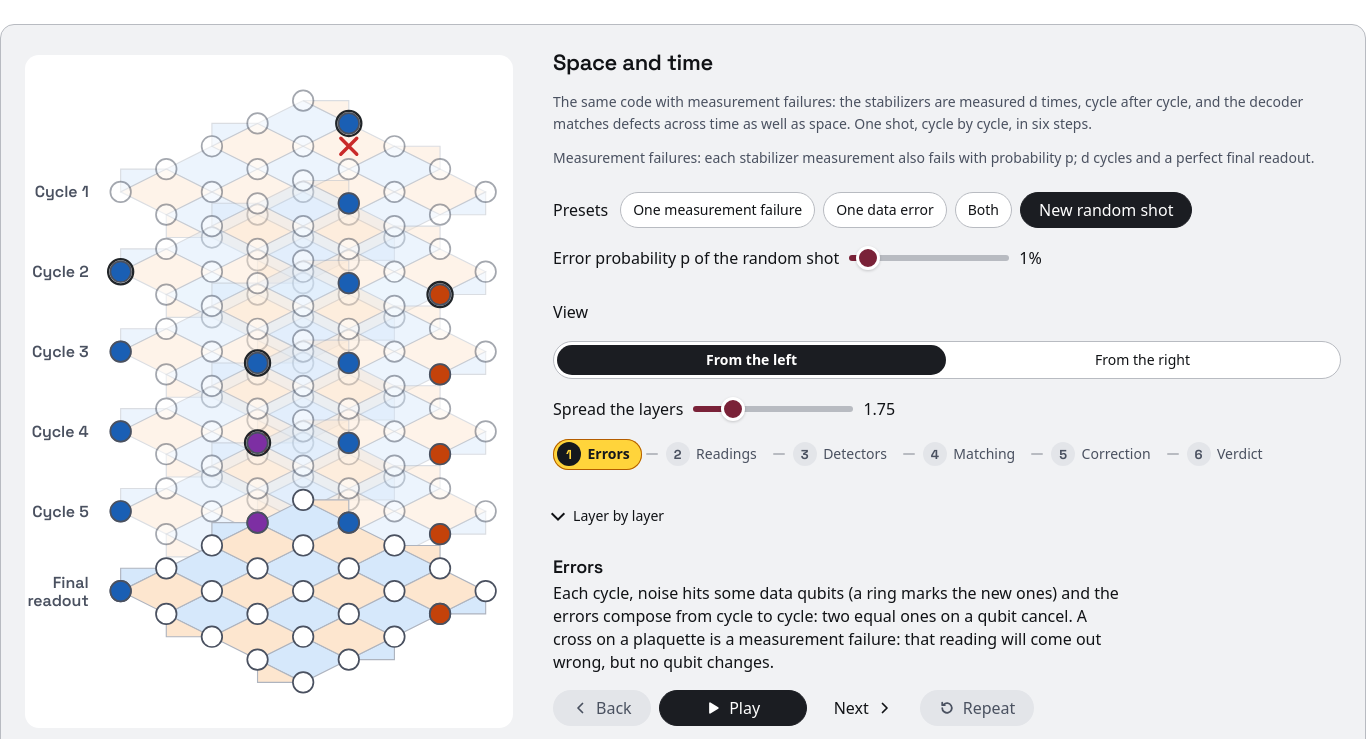
Test: SpacetimePanel (T-G7) › preset "data": readings lit in every layer from the central one, detectors in one layer, correction on one qubit
The width and height of the screenshot is (1366, 739).
Click the button "One data error". click: (885, 210)
box: x1=823 y1=192 x2=947 y2=228
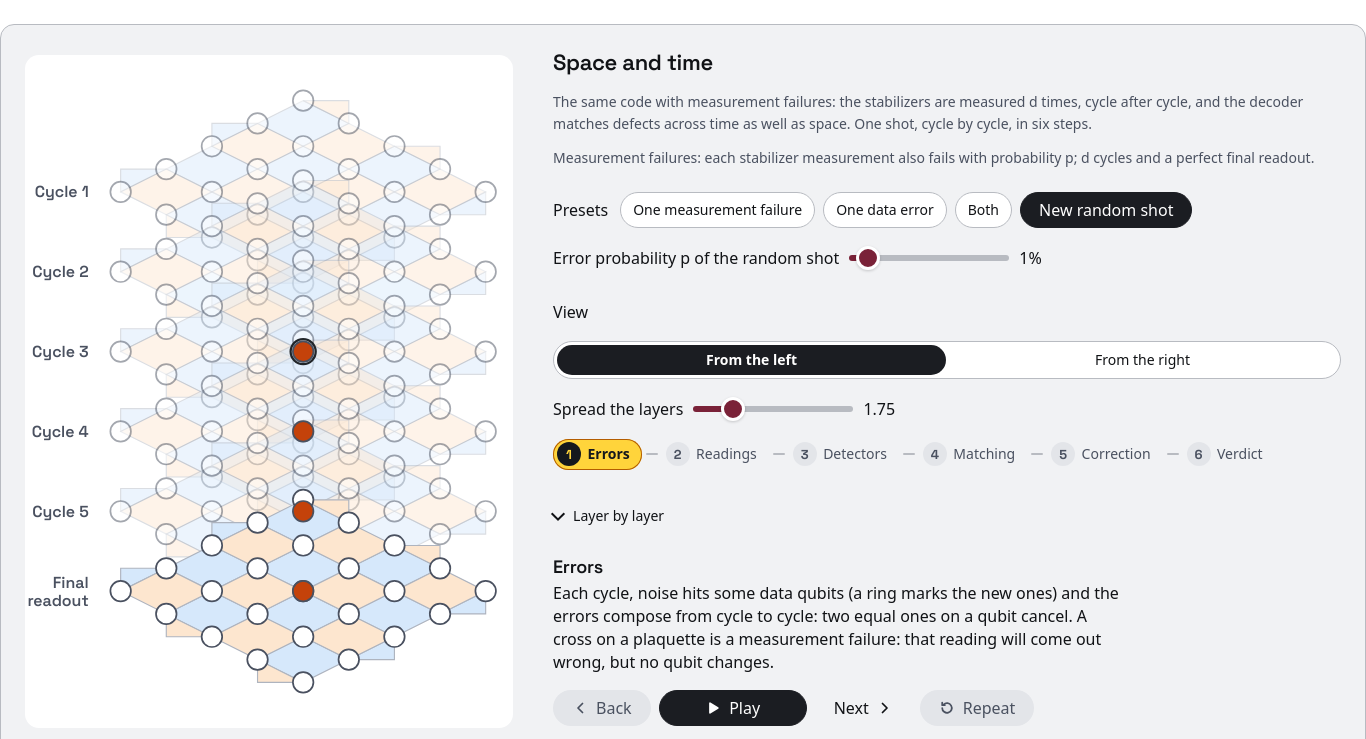
Click the button "Next". click: (863, 708)
box: x1=815 y1=690 x2=912 y2=726
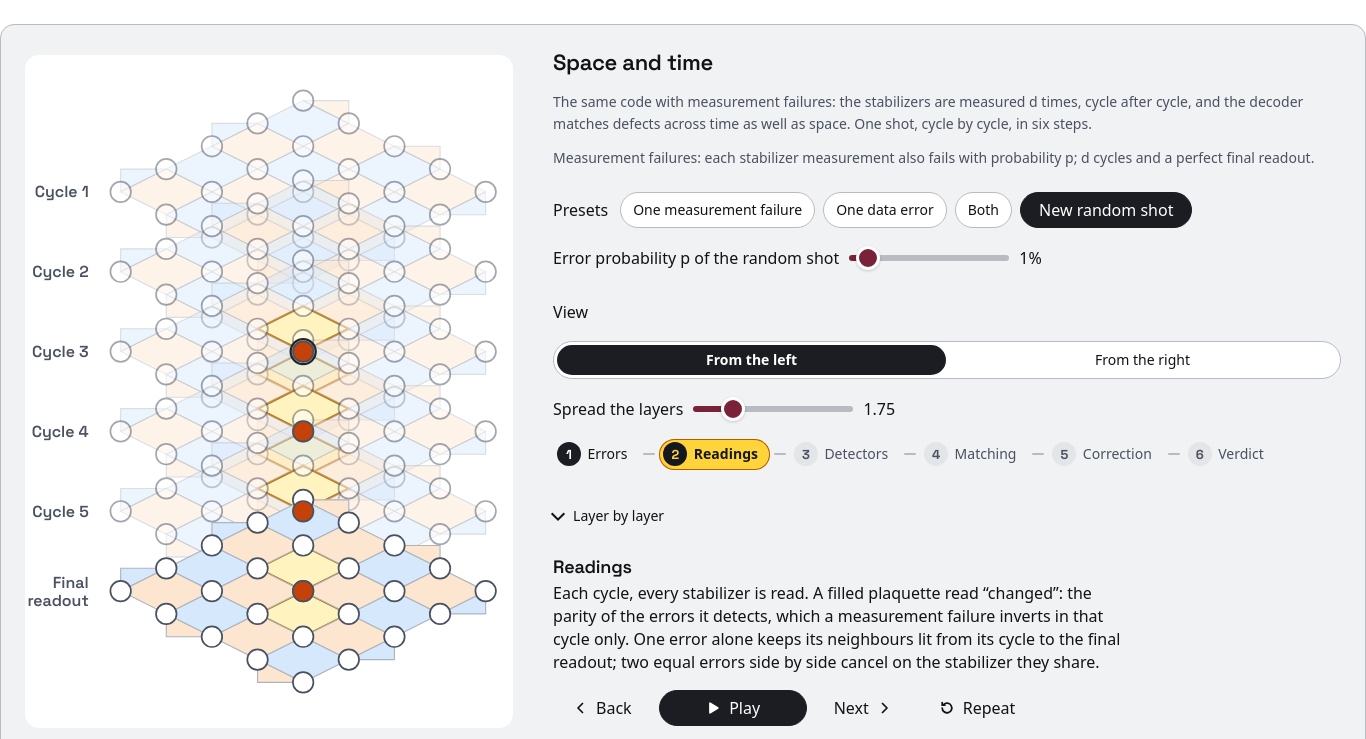
Click the button "Next". click: (863, 708)
box: x1=815 y1=690 x2=912 y2=726
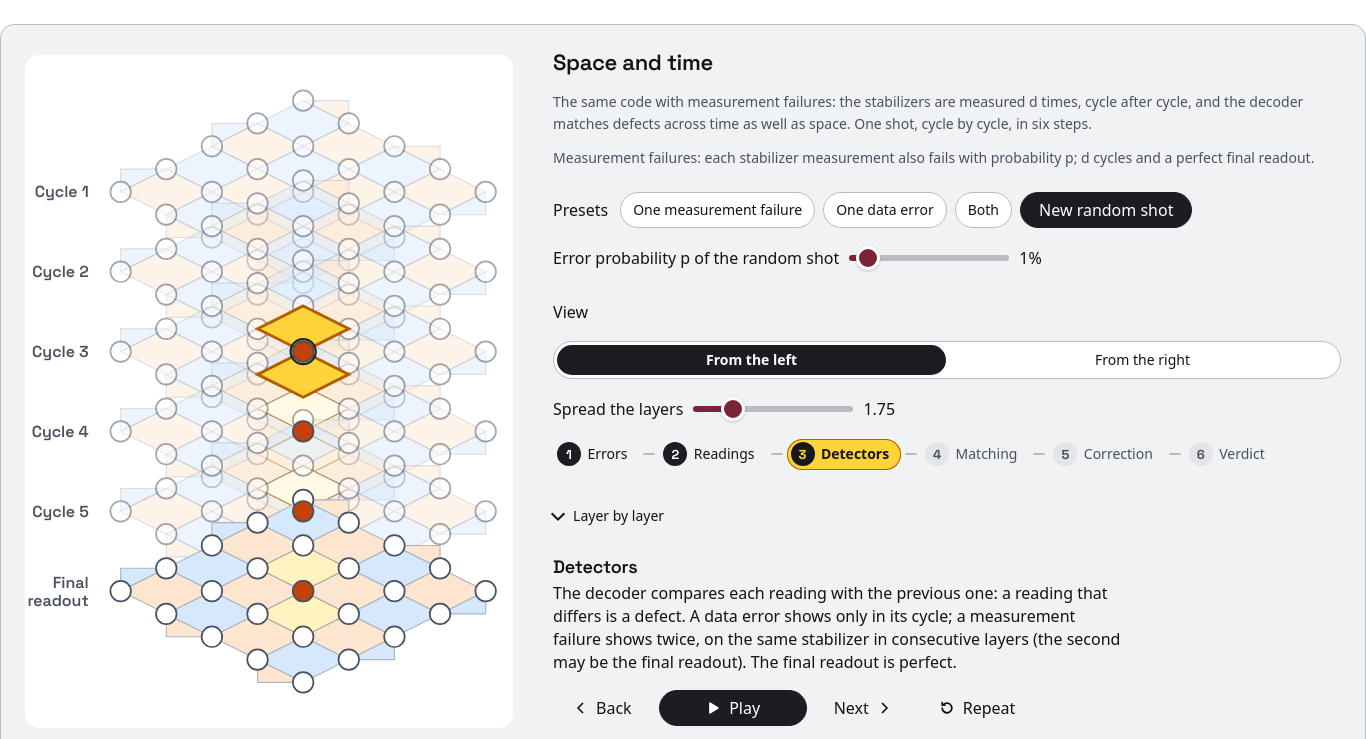
Click the button "Next". click: (863, 708)
box: x1=815 y1=690 x2=912 y2=726
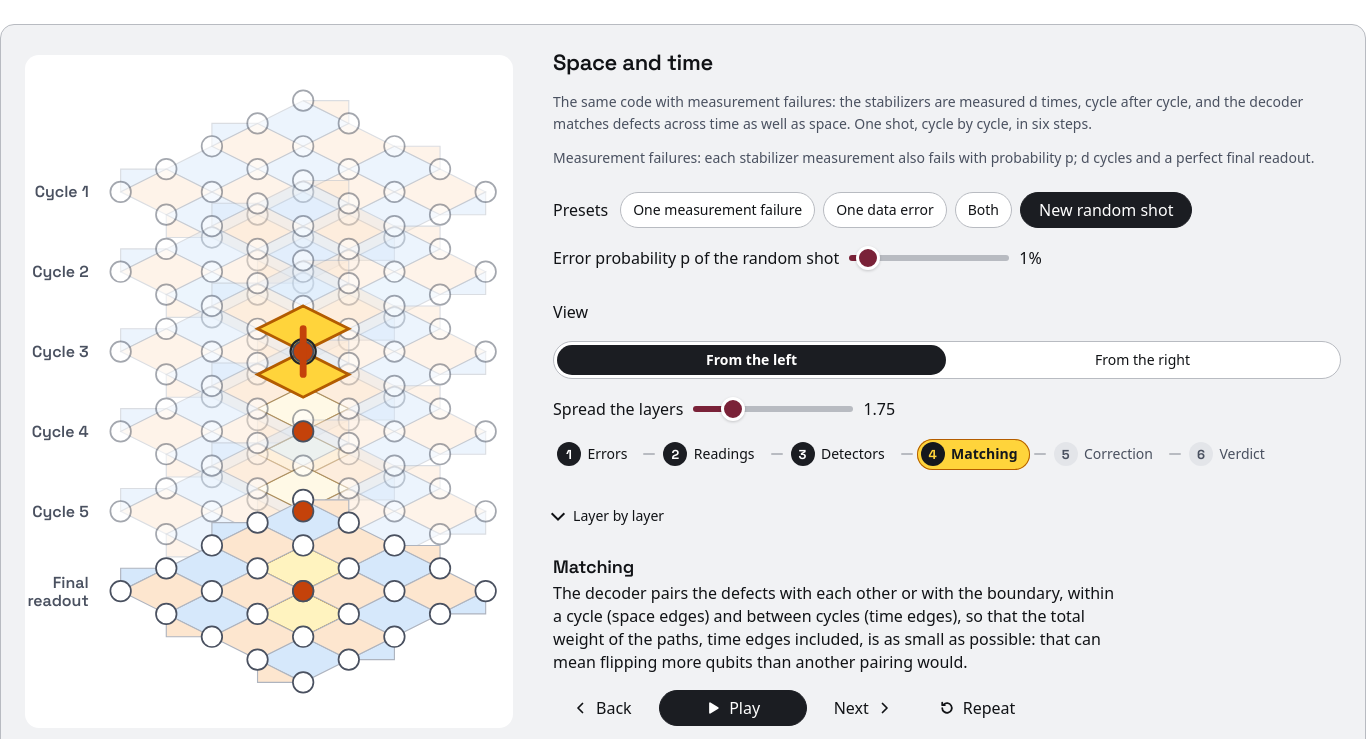
Click the button "Next". click: (863, 708)
box: x1=815 y1=690 x2=912 y2=726
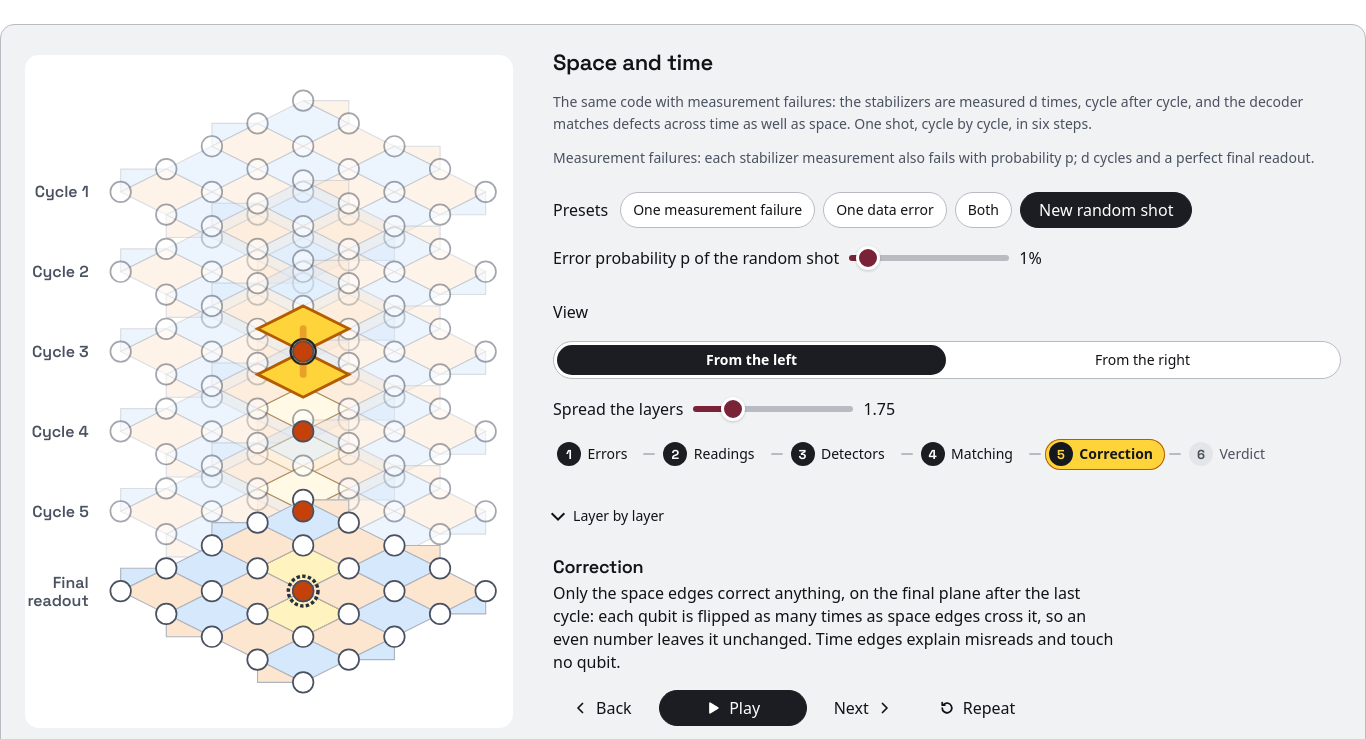
Click the button "Next". click: (863, 708)
box: x1=815 y1=690 x2=912 y2=726
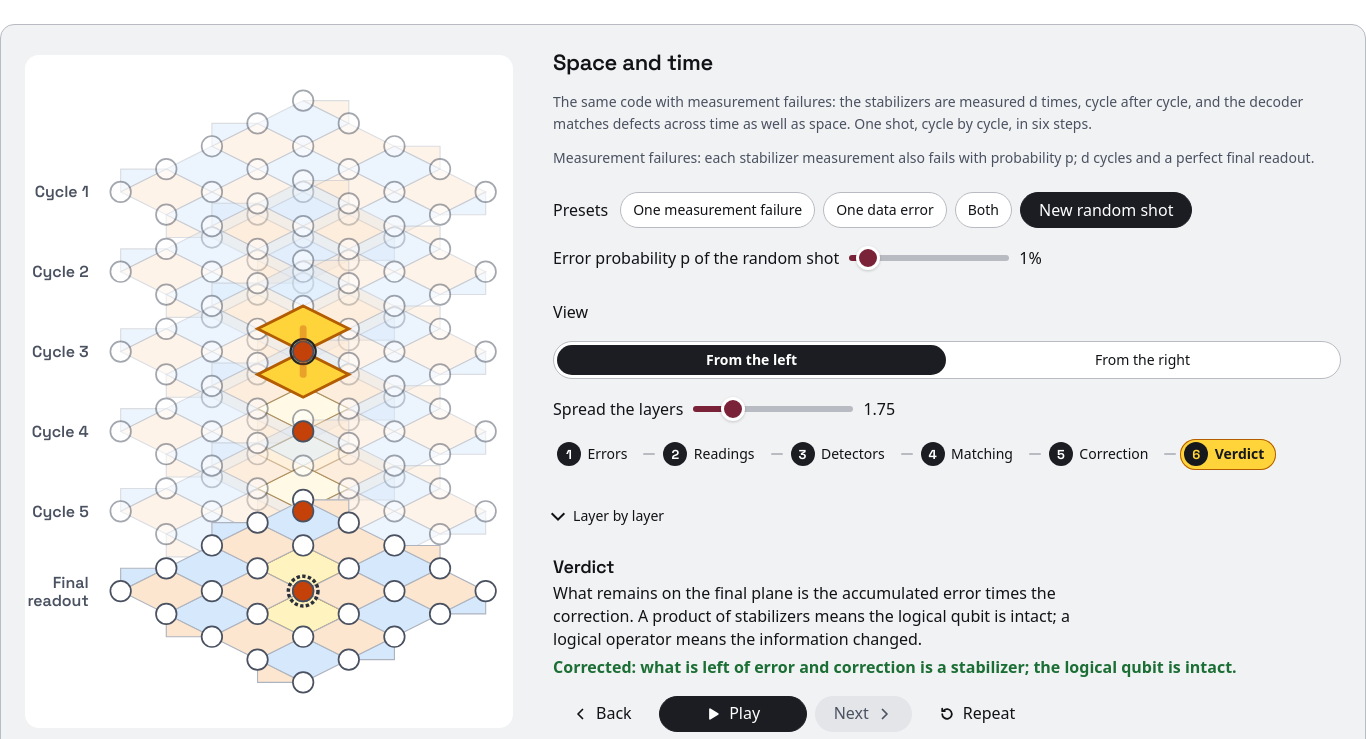
Expected: the text with class "spacetime__verdict" shows "Corrected: what is left of error and correction is a stabilizer; the logical qubit is intact.", x1=553 y1=656 x2=1237 y2=678
